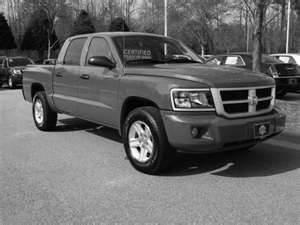car: (21, 33, 288, 177)
